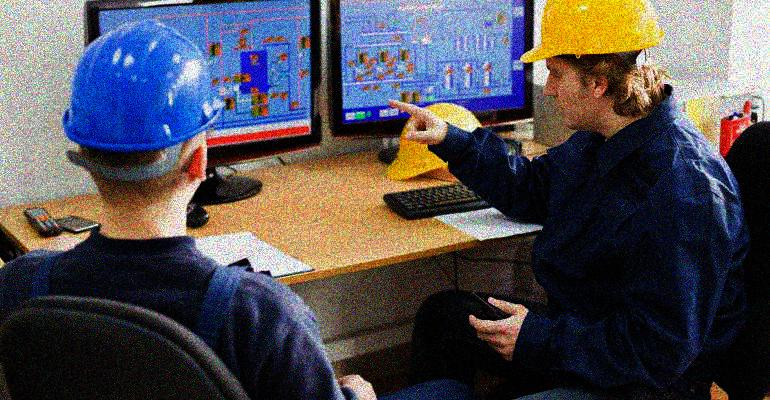helmet: (60, 11, 229, 218), (520, 1, 667, 129)
